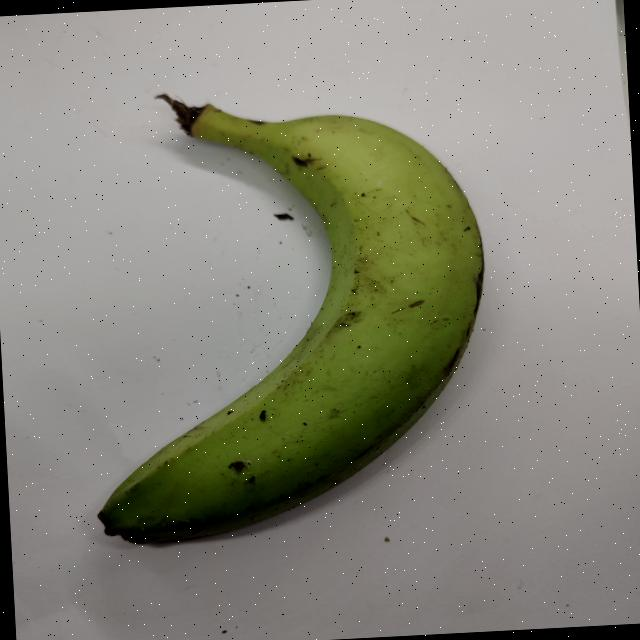Raw: (24, 51, 524, 561)
